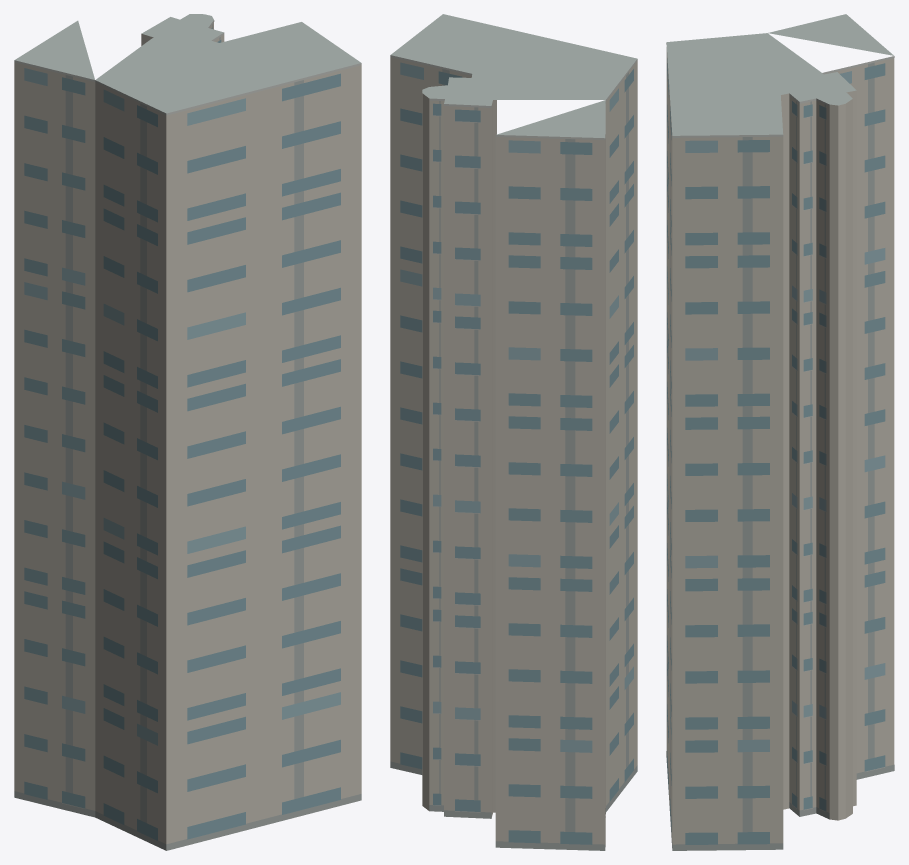
The model's file is residential-1e45f16e-cff7-4bda-8916-6e2160779e6d.glb.
3 views of the same model, side by side, from view 1: azimuth 30°, elevation 25°; view 2: azimuth 150°, elevation 25°; view 3: azimuth 270°, elevation 25° (orthographic). The views are drawn at different scales.
Visible parts, largest first — view 1: residential-1e45f16e-cff7-4bda-8916-6e2160779e6d.tmp; view 2: residential-1e45f16e-cff7-4bda-8916-6e2160779e6d.tmp; view 3: residential-1e45f16e-cff7-4bda-8916-6e2160779e6d.tmp.
Part boxes in pixels (<box>): residential-1e45f16e-cff7-4bda-8916-6e2160779e6d.tmp: <box>14,14,361,850</box>; residential-1e45f16e-cff7-4bda-8916-6e2160779e6d.tmp: <box>390,14,637,850</box>; residential-1e45f16e-cff7-4bda-8916-6e2160779e6d.tmp: <box>666,14,894,850</box>.
Size of the model in its own units: 31.82 by 87 by 25.15.
